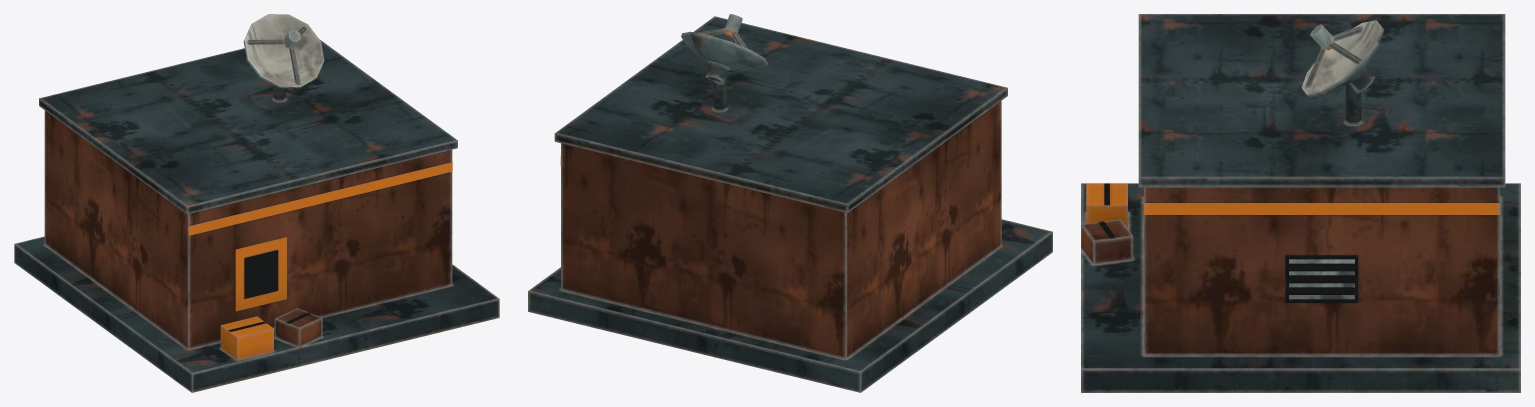
Rendered from trade_module.glb.
The picture shows the model from 3 angles, left to right: view 1: azimuth 30°, elevation 25°; view 2: azimuth 150°, elevation 25°; view 3: azimuth 270°, elevation 25°; orthographic projection. The views are drawn at different scales.
Parts seen in each view (by area): view 1: te_trade_module, move_dish; view 2: te_trade_module, move_dish; view 3: te_trade_module, move_dish.
Boxes of the visible parts, bbox=[...] form: te_trade_module: bbox=[14, 39, 499, 392]; move_dish: bbox=[243, 14, 324, 88]; te_trade_module: bbox=[528, 16, 1052, 392]; move_dish: bbox=[681, 14, 767, 82]; te_trade_module: bbox=[1081, 14, 1520, 392]; move_dish: bbox=[1301, 20, 1384, 97].
Size of the model in its own units: 0.84 by 0.6345 by 0.84.
Materials: 1 (1 with a texture image).
